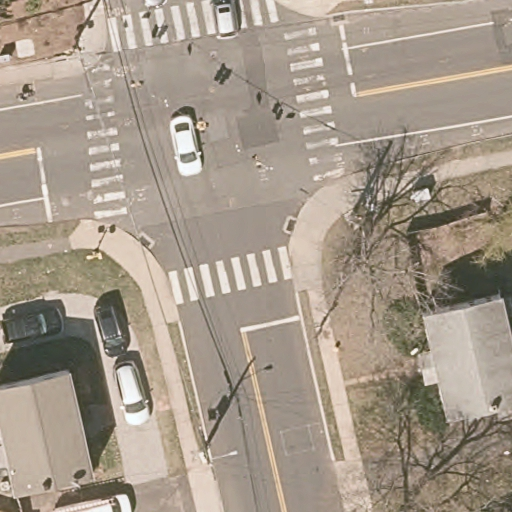DT: (198, 426, 238, 481)
